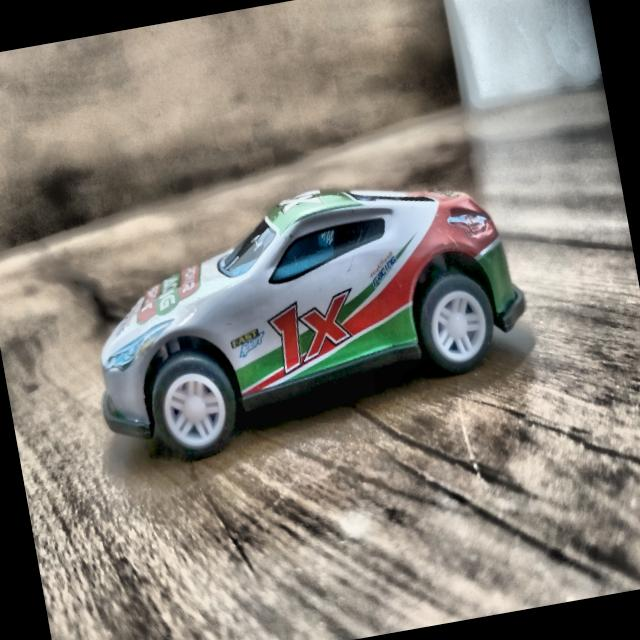Car: (64, 152, 546, 474)
